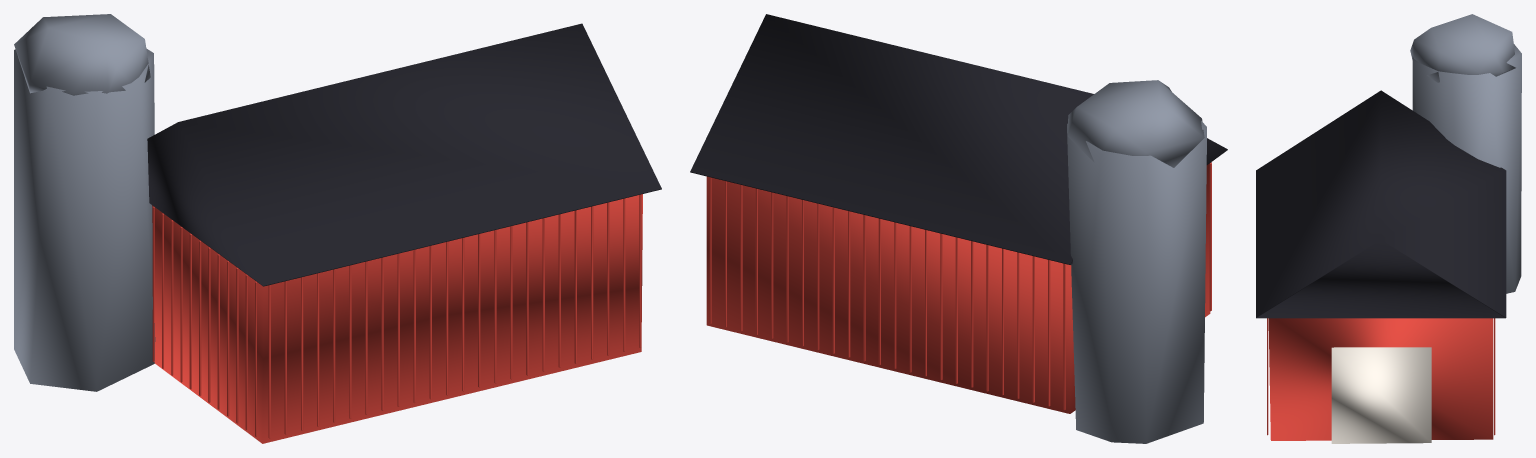
Rendered from barn.glb.
The picture shows the model from 3 angles, left to right: view 1: azimuth 30°, elevation 25°; view 2: azimuth 150°, elevation 25°; view 3: azimuth 270°, elevation 25°; orthographic projection. The views are drawn at different scales.
Visible parts, largest first — view 1: barn; view 2: barn; view 3: barn.
Part boxes in pixels (bbox=[...]): barn: bbox=[14, 14, 661, 443]; barn: bbox=[690, 14, 1227, 443]; barn: bbox=[1256, 14, 1521, 443].
Bounding box in the file's own units: 15.7 × 10.04 × 9.43.
Materials: 1 (1 with a texture image).
